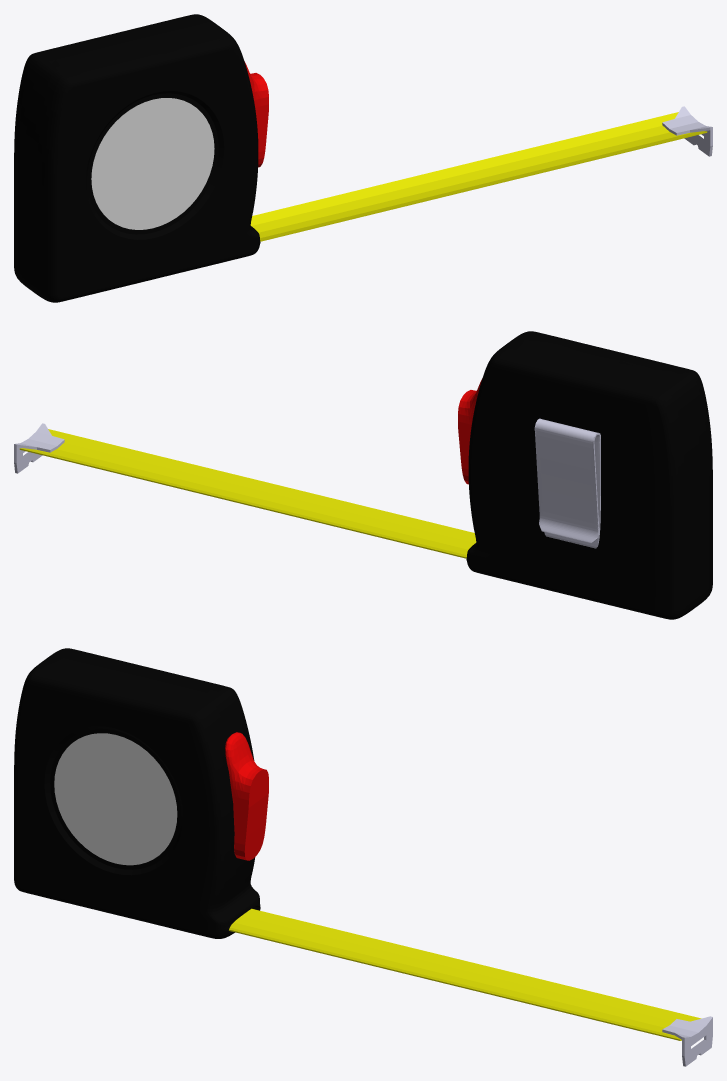
Rendered from sweethome3d-katorlegaz-tape-measure.glb.
The picture shows the model from 3 angles, top to bottom: view 1: azimuth 30°, elevation 25°; view 2: azimuth 150°, elevation 25°; view 3: azimuth 330°, elevation 25°; orthographic projection.
Parts seen in each view (by area): view 1: Tape_measure_Tape_measure_PLASTIC_black, Tape_measure_Tape_measure_label, ruler_ruler_PAINT_yellow_gloss, ruler_ruler_METAL_chrome, Tape_measure_Tape_measure_PLASTIC_red; view 2: Tape_measure_Tape_measure_PLASTIC_black, ruler_ruler_PAINT_yellow_gloss, Tape_measure_Tape_measure_METAL_chrome, ruler_ruler_METAL_chrome, Tape_measure_Tape_measure_PLASTIC_red; view 3: Tape_measure_Tape_measure_PLASTIC_black, Tape_measure_Tape_measure_label, ruler_ruler_PAINT_yellow_gloss, Tape_measure_Tape_measure_PLASTIC_red, ruler_ruler_METAL_chrome.
Boxes of the visible parts, box(x1,y1,x2,y2) form: Tape_measure_Tape_measure_PLASTIC_black: box(14, 14, 260, 302); Tape_measure_Tape_measure_label: box(91, 98, 214, 229); ruler_ruler_PAINT_yellow_gloss: box(250, 112, 707, 241); ruler_ruler_METAL_chrome: box(662, 106, 712, 156); Tape_measure_Tape_measure_PLASTIC_red: box(244, 61, 268, 167); Tape_measure_Tape_measure_PLASTIC_black: box(466, 331, 712, 619); ruler_ruler_PAINT_yellow_gloss: box(19, 429, 476, 558); Tape_measure_Tape_measure_METAL_chrome: box(534, 418, 600, 548); ruler_ruler_METAL_chrome: box(14, 423, 64, 473); Tape_measure_Tape_measure_PLASTIC_red: box(458, 378, 482, 484); Tape_measure_Tape_measure_PLASTIC_black: box(14, 648, 260, 938); Tape_measure_Tape_measure_label: box(54, 733, 177, 865); ruler_ruler_PAINT_yellow_gloss: box(229, 908, 701, 1040); Tape_measure_Tape_measure_PLASTIC_red: box(225, 732, 268, 860); ruler_ruler_METAL_chrome: box(662, 1016, 712, 1066).
Size of the model in its own units: 1.56 by 0.5361 by 0.1987.
